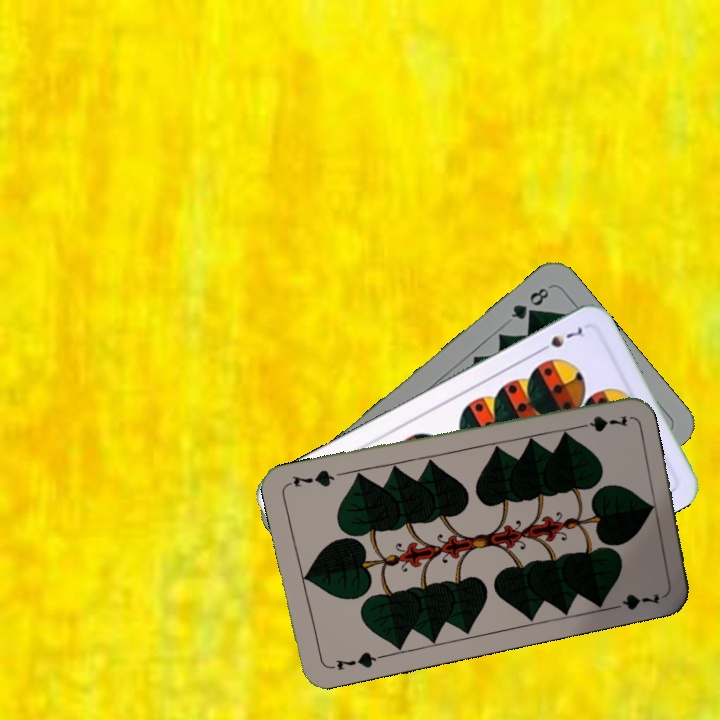G7: (325, 648, 384, 673), (570, 411, 629, 432)
G8: (506, 283, 552, 323)
S7: (533, 321, 589, 356)
